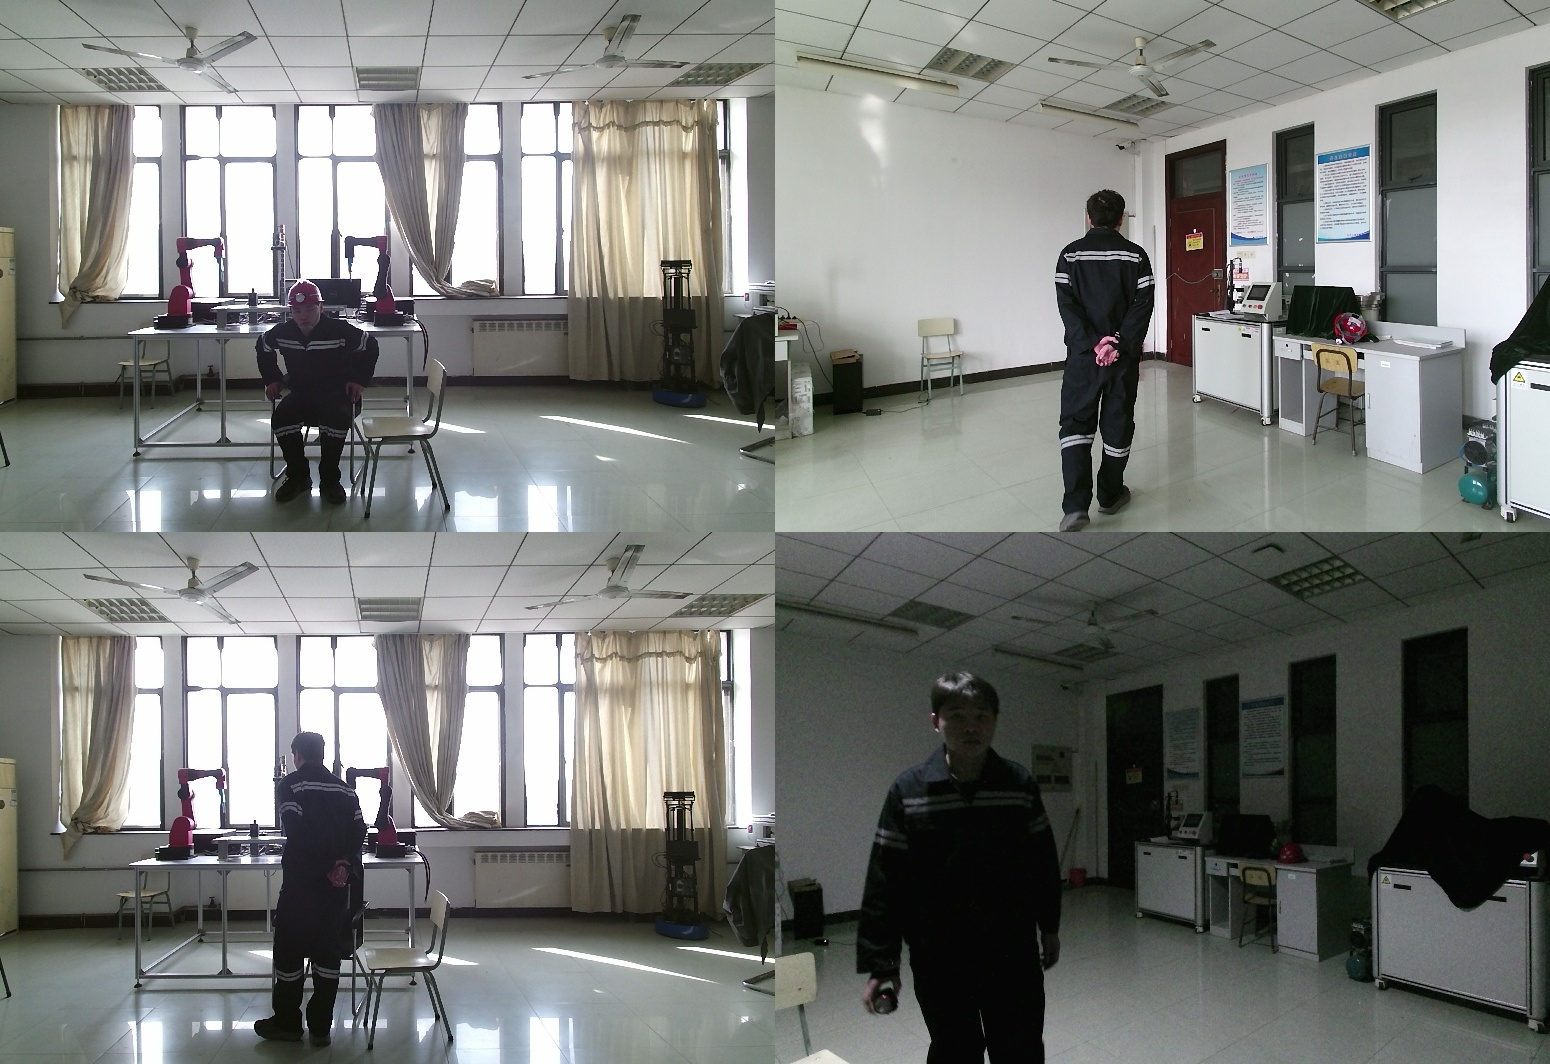person: (858, 673, 1073, 1064), (1041, 188, 1154, 532), (255, 734, 369, 1043), (256, 281, 386, 503)
